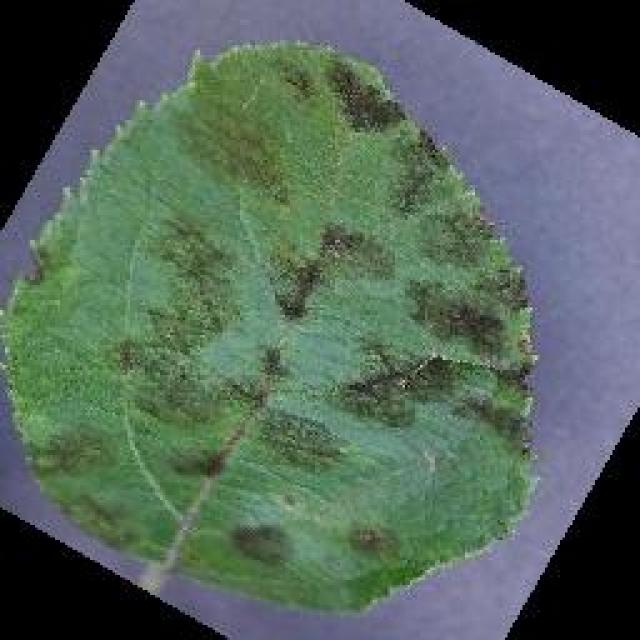apple scab disease: (0, 34, 542, 617)
